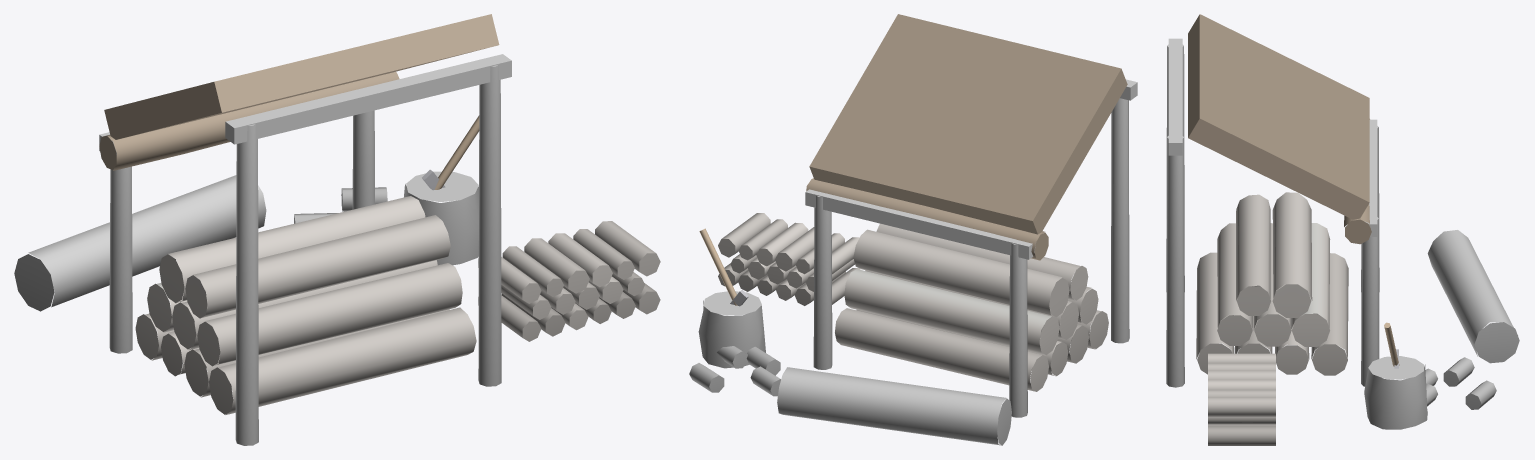
The model's file is hw_wood_camp.glb.
The picture shows the model from 3 angles, left to right: view 1: azimuth 30°, elevation 25°; view 2: azimuth 150°, elevation 25°; view 3: azimuth 270°, elevation 25°; orthographic projection. The views are drawn at different scales.
Parts seen in each view (by area): view 1: Building; view 2: Building; view 3: Building.
Part boxes in pixels (x1,y1,x2,y2): Building: [14, 14, 660, 445]; Building: [689, 14, 1137, 445]; Building: [1166, 14, 1519, 445].
Bounding box in the file's own units: 2.74 × 1.94 × 2.29.
